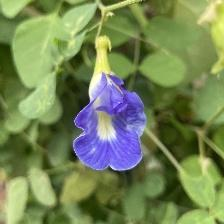shankupushpam: (73, 71, 149, 175)
